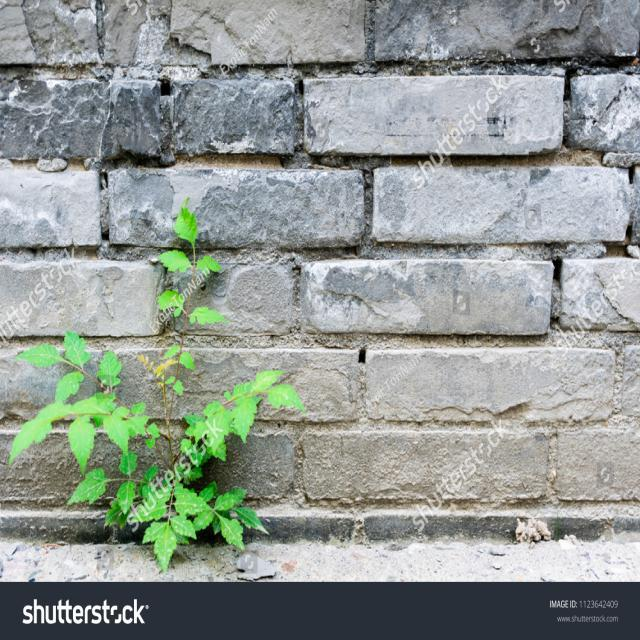Crack: (0, 0, 639, 559)
